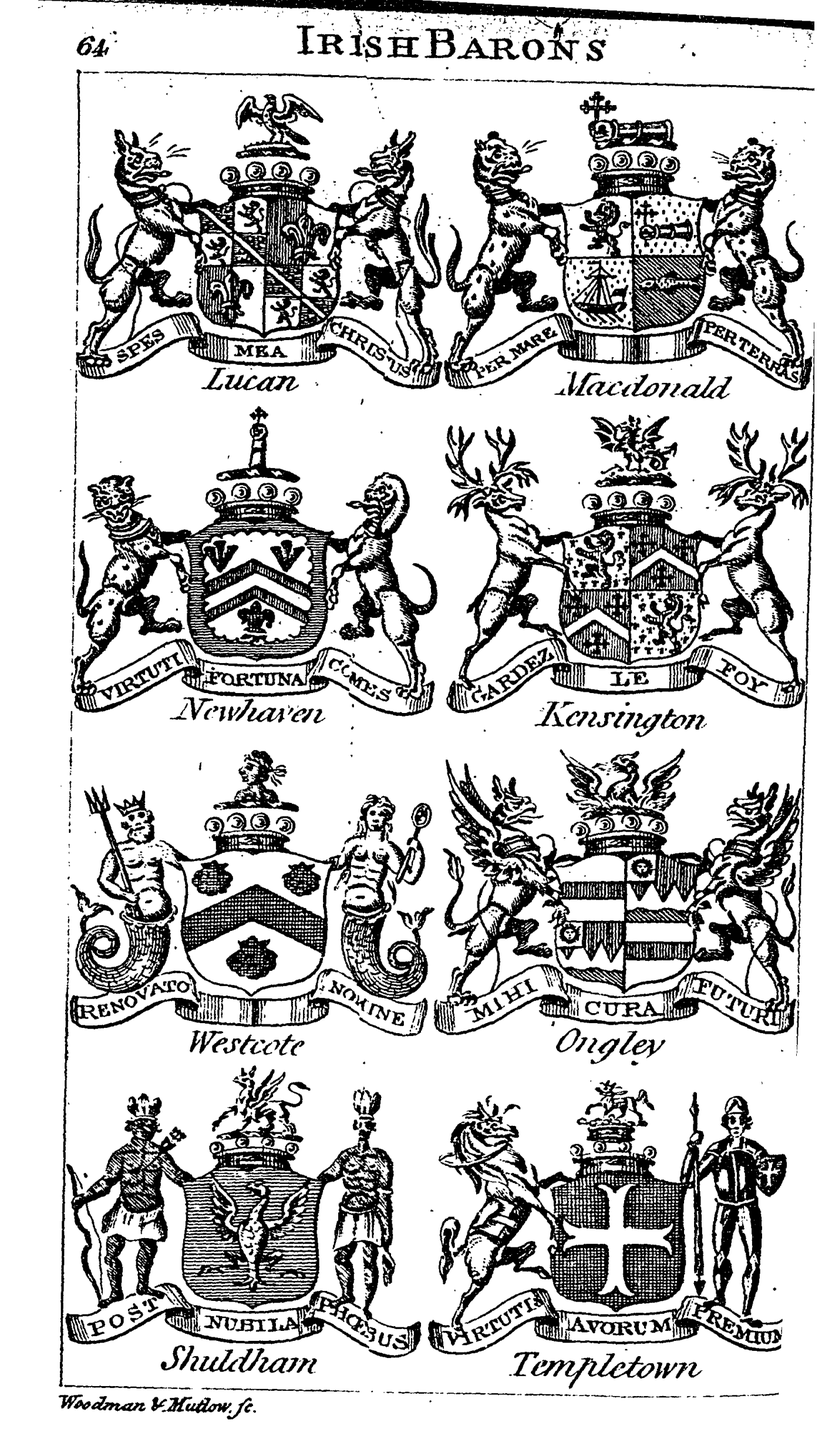coat_of_arms: (437, 738, 808, 1068), (82, 72, 437, 415), (448, 80, 810, 411), (429, 1058, 801, 1380), (444, 412, 811, 738), (67, 738, 440, 1057), (78, 415, 439, 739), (69, 1057, 422, 1388)
